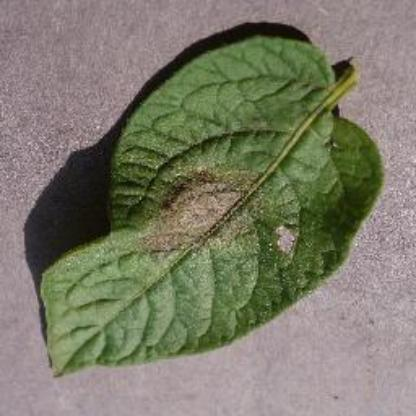Late-Blight: (4, 29, 382, 405)
